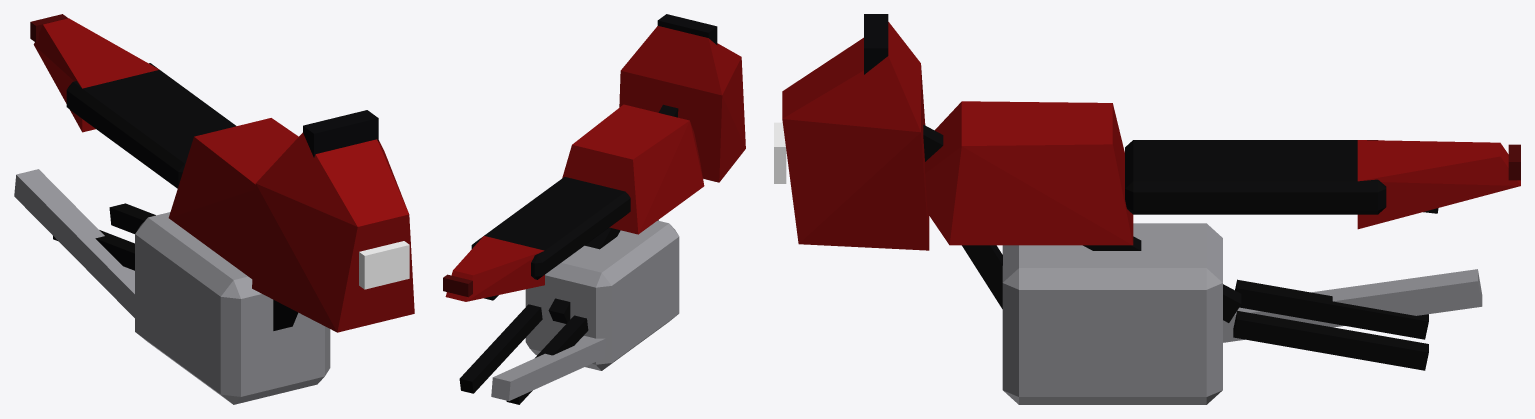
The model's file is Motorcycle.obj.
The picture shows the model from 3 angles, left to right: view 1: azimuth 30°, elevation 25°; view 2: azimuth 150°, elevation 25°; view 3: azimuth 270°, elevation 25°; orthographic projection. The views are drawn at different scales.
Parts seen in each view (by area): view 1: Body, Chrome, Trim, Glass, Headlights, Taillights; view 2: Body, Chrome, Trim, Glass, Taillights; view 3: Body, Chrome, Trim, Glass, Headlights.
Boxes of the visible parts, x1,y1,x2,y2 form: Body: [33, 18, 414, 332]; Chrome: [14, 169, 330, 404]; Trim: [53, 63, 298, 330]; Glass: [303, 110, 378, 157]; Headlights: [359, 241, 409, 289]; Taillights: [30, 14, 67, 42]; Body: [445, 26, 745, 301]; Chrome: [491, 220, 679, 400]; Trim: [459, 104, 678, 404]; Glass: [657, 14, 717, 44]; Taillights: [443, 274, 472, 297]; Body: [782, 22, 1520, 250]; Chrome: [1002, 223, 1482, 404]; Trim: [923, 124, 1438, 370]; Glass: [864, 14, 888, 74]; Headlights: [774, 122, 786, 183].
Bounding box in the file's own units: 0.4 × 0.95 × 1.83.
